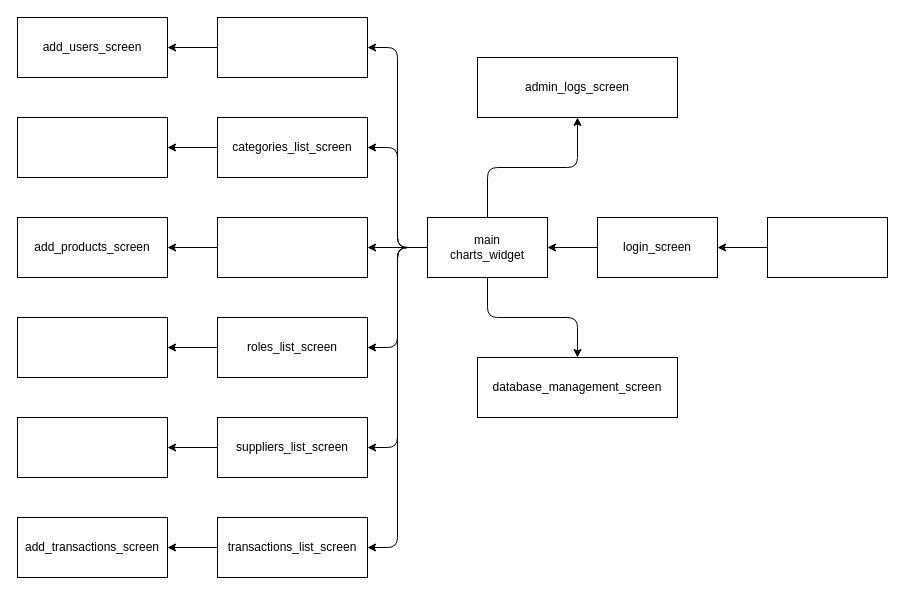
Some shapes in this 905 by 595 pixel diagram are drawn without their labels. The shapes that lost their labels are listed below. From the top down, each one's centre as x and y in pixels, then its label:
the point at 292,47: users_list_screen
the point at 92,147: add_categories_screen
the point at 292,247: products_list_screen
the point at 827,247: Структурная схема приложения
the point at 92,347: add_roles_screen
the point at 92,447: add_suppliers_screen
